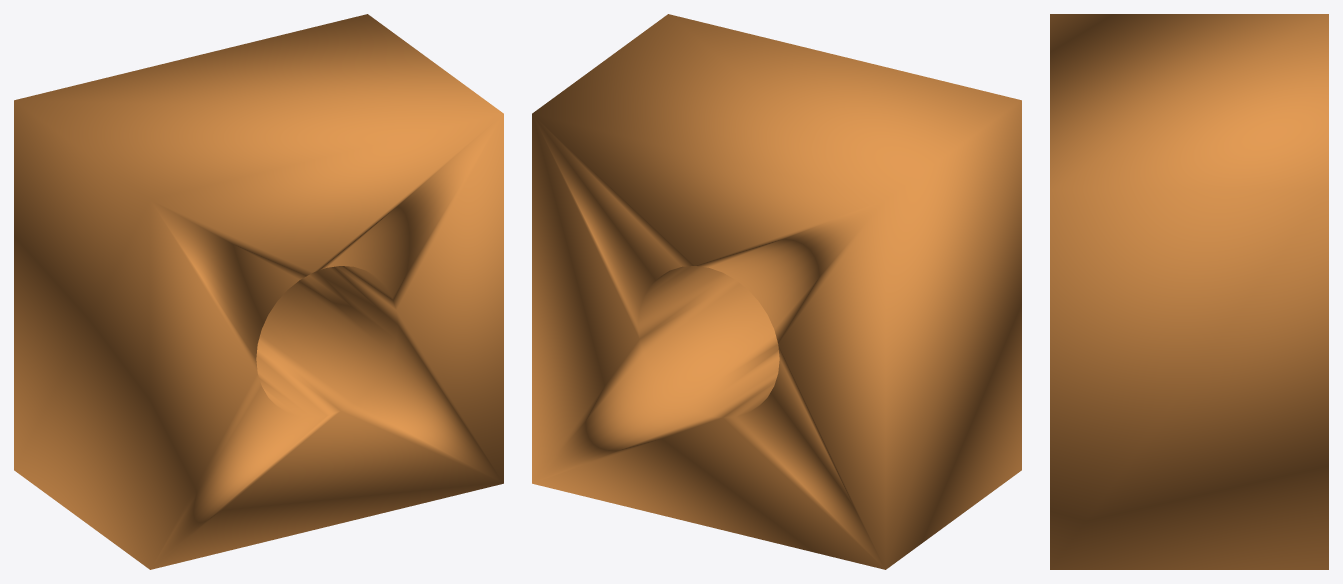
Rendered from expected.gltf.
3 views of the same model, side by side, from view 1: azimuth 30°, elevation 25°; view 2: azimuth 150°, elevation 25°; view 3: azimuth 270°, elevation 25° (orthographic). The views are drawn at different scales.
Bounding box in the file's own units: 30 × 30 × 20.
